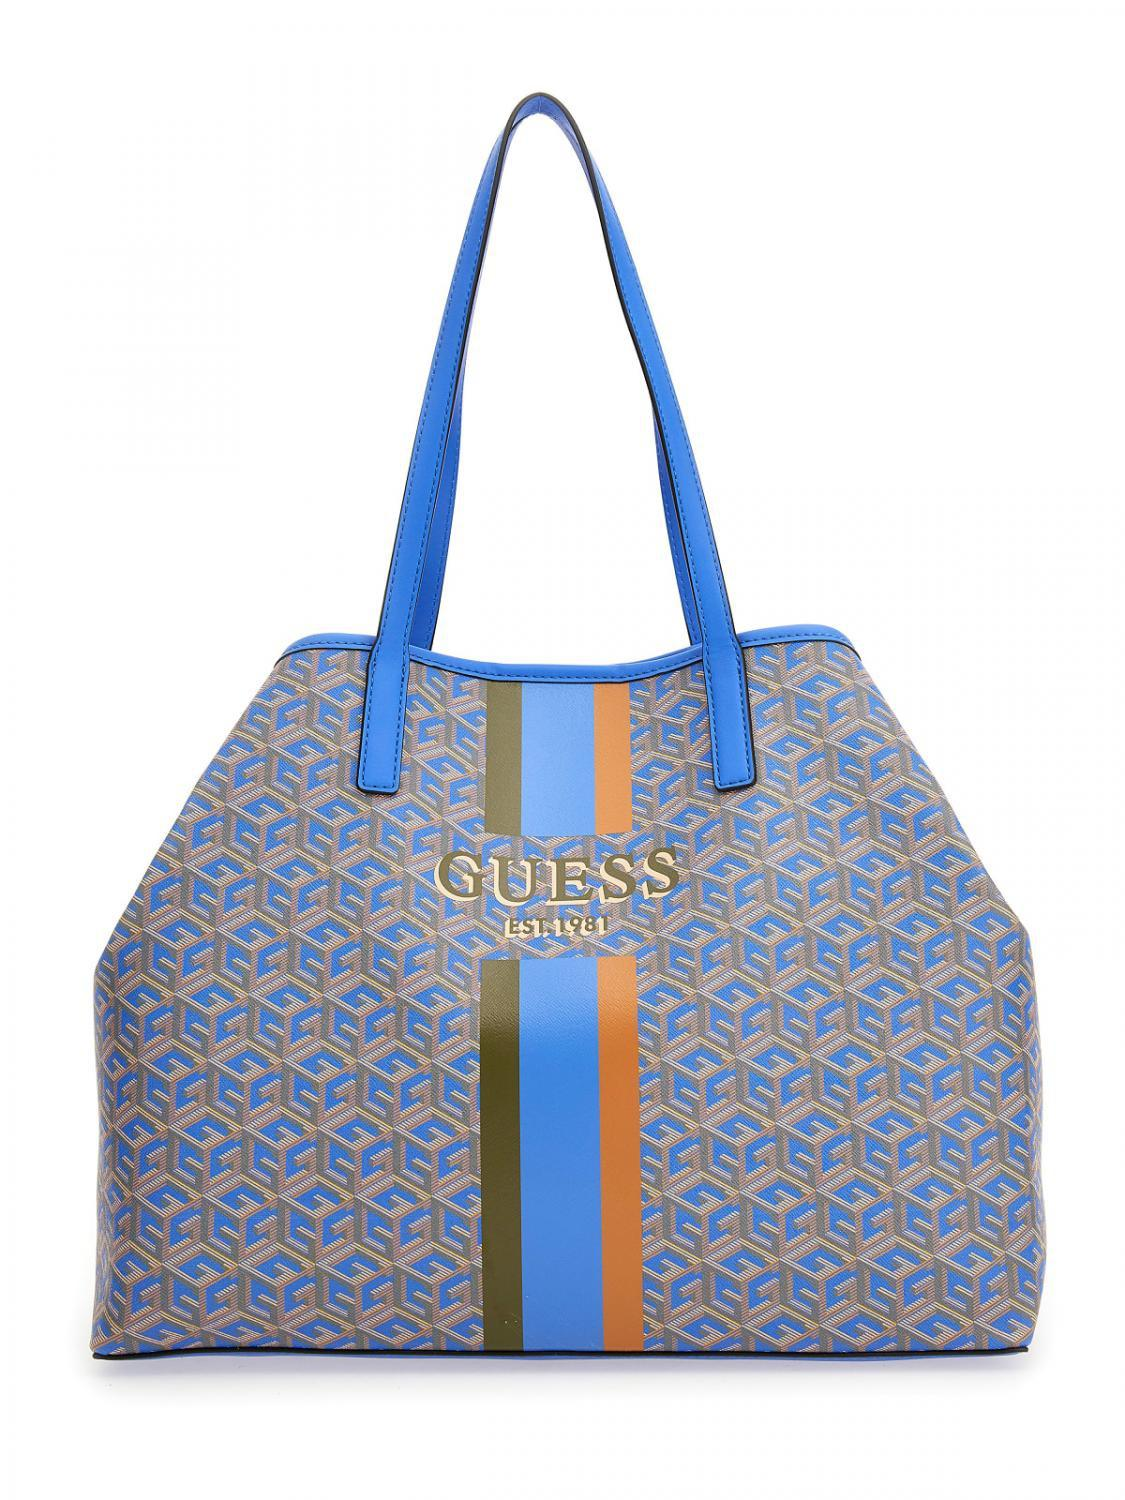GUESS: (434, 846, 679, 906)
